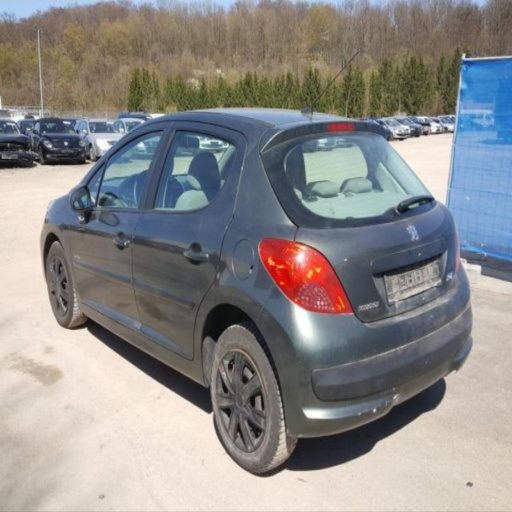dent: (207, 250, 234, 289)
rust: (218, 358, 227, 380)
scratch: (357, 393, 402, 416)
